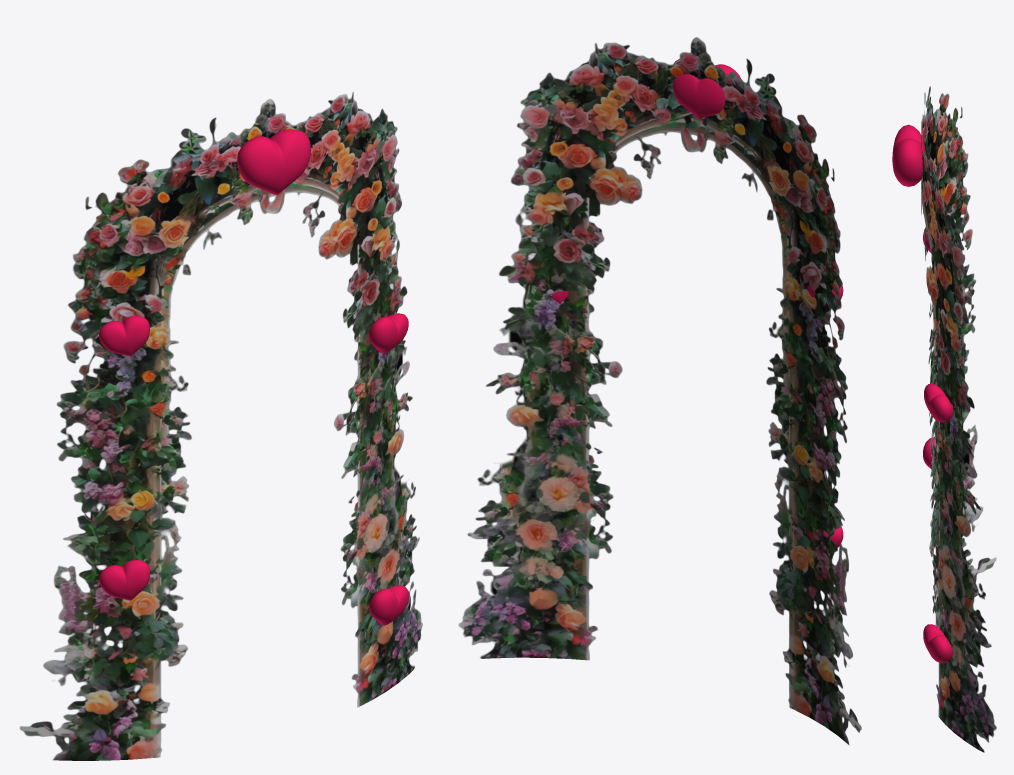
File: frame.glb
3 renders of one model, left to right at view 1: azimuth 30°, elevation 25°; view 2: azimuth 150°, elevation 25°; view 3: azimuth 270°, elevation 25°, orthographic. The views are drawn at different scales.
Parts seen in each view (by area): view 1: Frame_Mesh, Deco_Heart_01, Deco_Heart_04, Deco_Heart_02, Deco_Heart_03, Deco_Heart_05; view 2: Frame_Mesh, Deco_Heart_01; view 3: Frame_Mesh, Deco_Heart_01, Deco_Heart_05, Deco_Heart_03, Deco_Heart_04.
Boxes of the visible parts, x1,y1,x2,y2 form: Frame_Mesh: (19,91,422,760); Deco_Heart_01: (237,129,311,195); Deco_Heart_04: (99,560,149,600); Deco_Heart_02: (99,315,149,356); Deco_Heart_03: (368,313,408,353); Deco_Heart_05: (369,585,408,625); Frame_Mesh: (458,37,861,745); Deco_Heart_01: (673,59,741,118); Frame_Mesh: (921,86,996,752); Deco_Heart_01: (892,124,925,186); Deco_Heart_05: (923,624,952,662); Deco_Heart_03: (924,383,953,422); Deco_Heart_04: (923,437,935,469).
Bounding box in the file's own units: 1.6 × 2.4 × 0.4099.
Materials: 2 (1 with a texture image).
